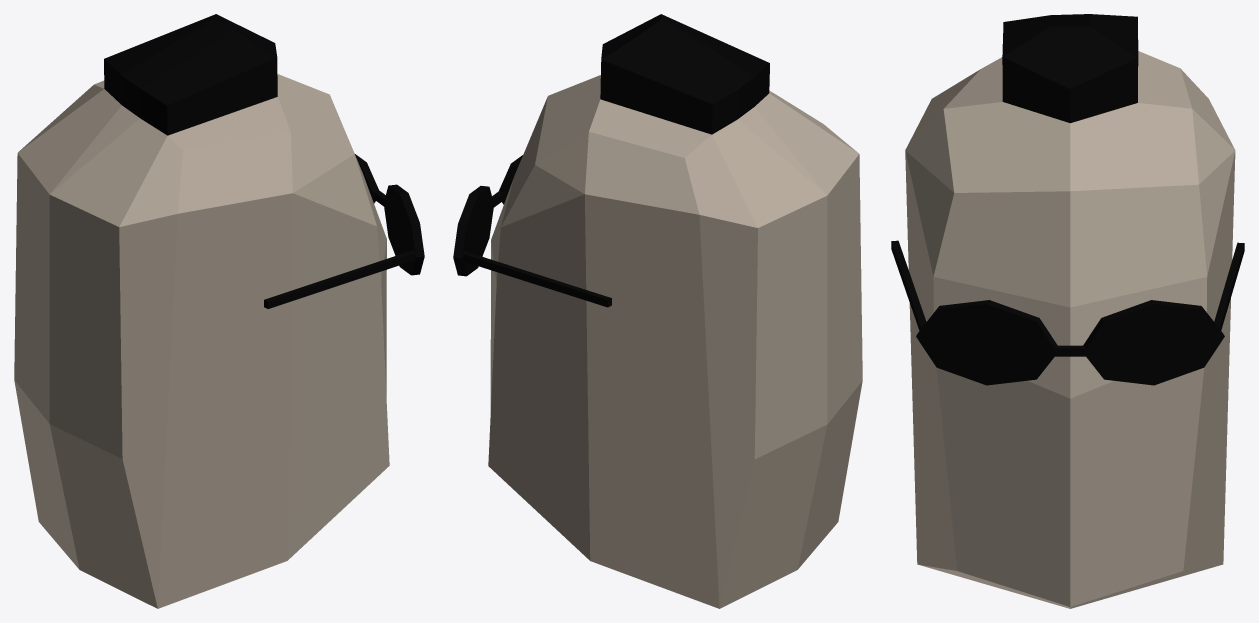
Rendered from head3.fbx.
The picture shows the model from 3 angles, left to right: view 1: azimuth 30°, elevation 25°; view 2: azimuth 150°, elevation 25°; view 3: azimuth 270°, elevation 25°; orthographic projection. The views are drawn at different scales.
Visible parts, largest first — view 1: head3; view 2: head3; view 3: head3.
Part boxes in pixels (<box>): head3: <box>14,14,424,608</box>; head3: <box>453,14,862,608</box>; head3: <box>891,14,1244,608</box>.
Bounding box in the file's own units: 66.25 × 95.89 × 53.93.
